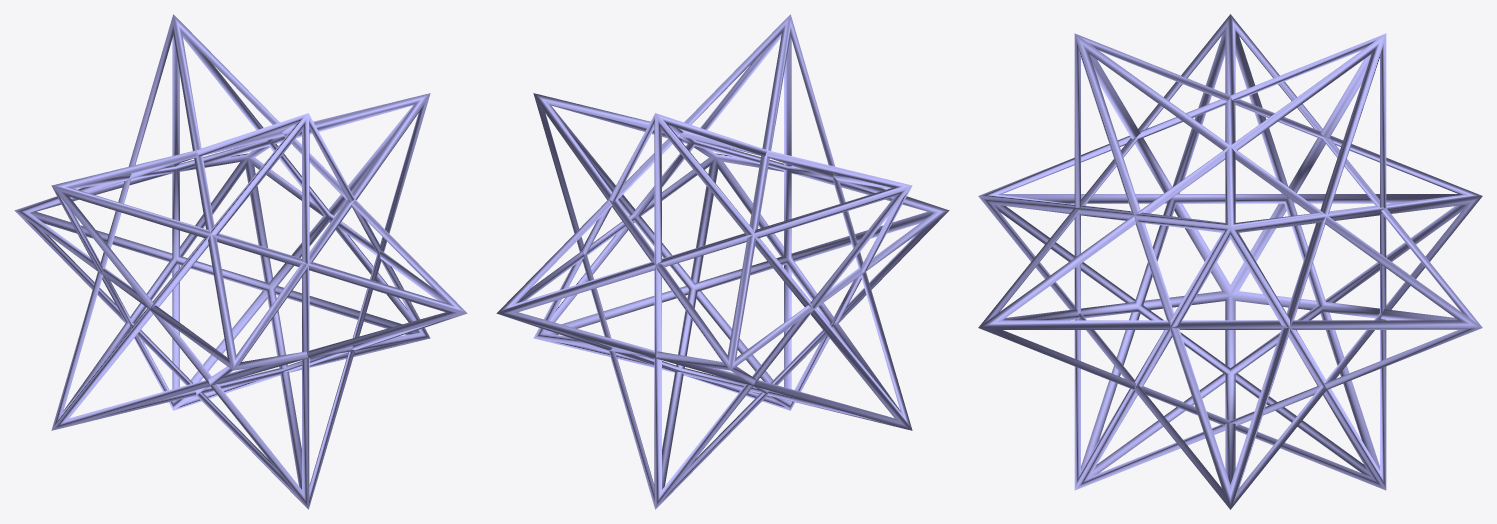
The model's file is SmallStellatedDodecahedron2.glb.
3 views of the same model, side by side, from view 1: azimuth 30°, elevation 25°; view 2: azimuth 150°, elevation 25°; view 3: azimuth 270°, elevation 25° (orthographic). The views are drawn at different scales.
Visible parts, largest first — view 1: SmallStellatedDodecahedron; view 2: SmallStellatedDodecahedron; view 3: SmallStellatedDodecahedron.
Boxes of the visible parts, box(x1,y1,x2,y2) form: SmallStellatedDodecahedron: box(14, 14, 467, 509); SmallStellatedDodecahedron: box(496, 14, 949, 509); SmallStellatedDodecahedron: box(978, 14, 1482, 509).
Bounding box in the file's own units: 1.02 × 1.02 × 1.02.
